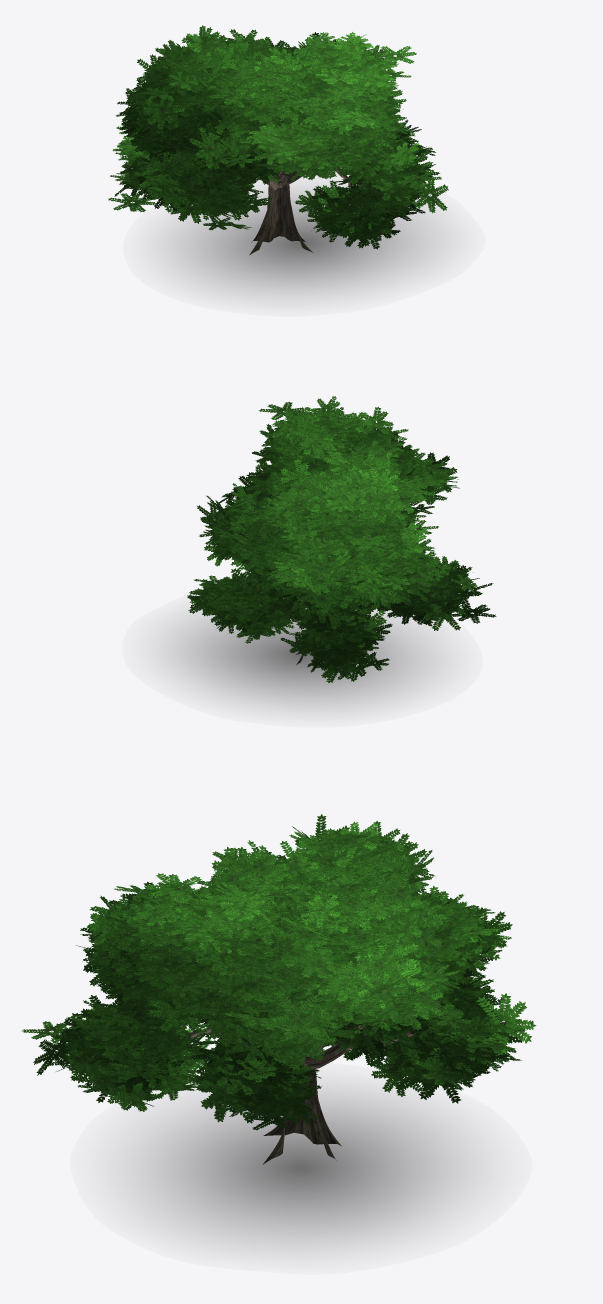
Rendered from rain_tree_01.glb.
3 views of the same model, one above another, from view 1: azimuth 30°, elevation 25°; view 2: azimuth 150°, elevation 25°; view 3: azimuth 270°, elevation 25° (orthographic). The views are drawn at different scales.
Visible parts, largest first — view 1: Tree_Leaves, Ground_Shadow, Tree_Bark; view 2: Tree_Leaves, Ground_Shadow; view 3: Tree_Leaves, Ground_Shadow, Tree_Bark.
Part boxes in pixels (x1,y1,x2,y2): Tree_Leaves: [108, 25, 448, 249]; Ground_Shadow: [171, 192, 434, 294]; Tree_Bark: [249, 167, 361, 254]; Tree_Leaves: [187, 396, 496, 683]; Ground_Shadow: [171, 614, 431, 706]; Tree_Leaves: [22, 814, 536, 1130]; Ground_Shadow: [137, 1092, 464, 1244]; Tree_Bark: [177, 1024, 415, 1164].
Size of the model in its own units: 18.65 by 10.52 by 18.
3 materials, 3 textured.
